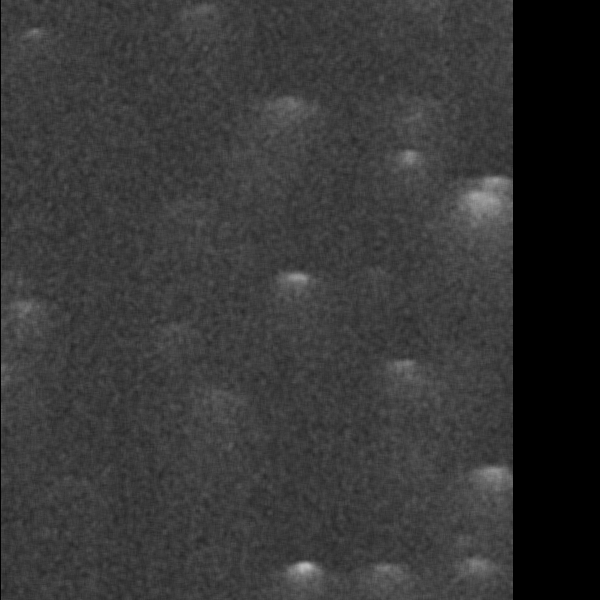spark: (129, 148, 215, 183), (139, 424, 201, 470), (152, 74, 191, 143), (20, 193, 107, 220), (38, 236, 102, 257), (224, 455, 260, 490)
